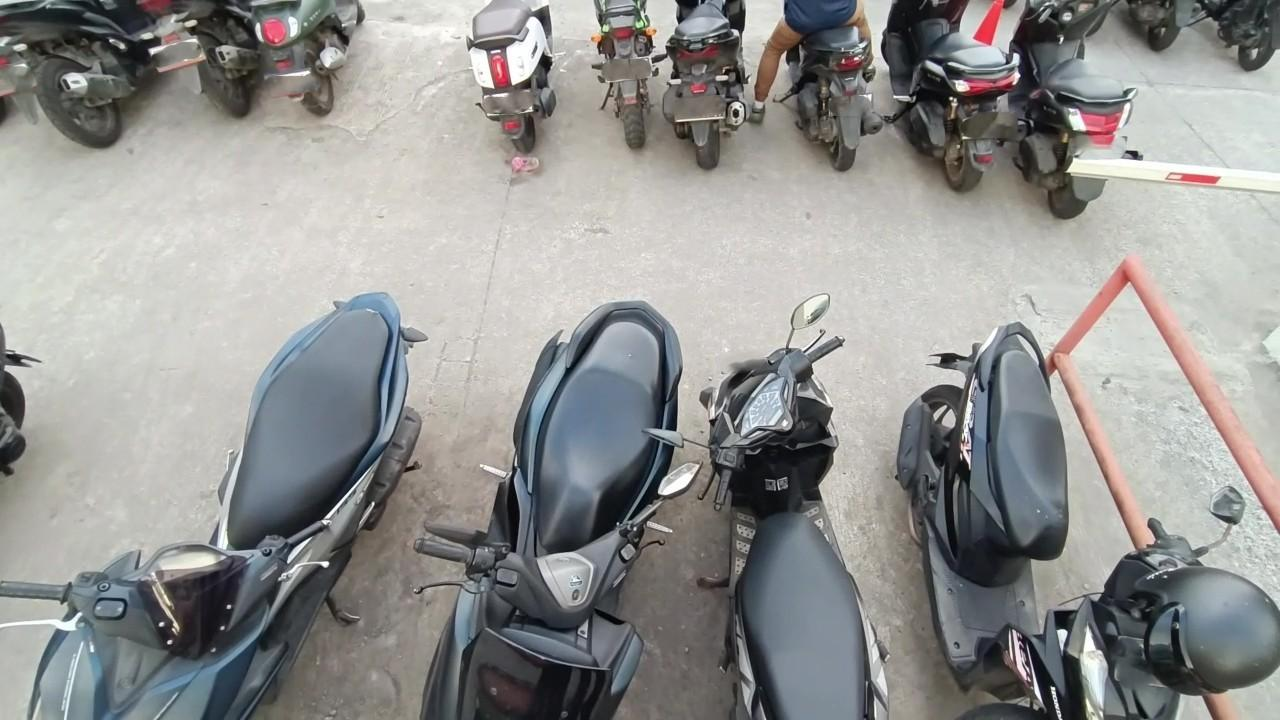motorcycle: (0, 294, 429, 719), (895, 320, 1280, 720), (417, 301, 705, 720), (650, 293, 892, 720), (1010, 0, 1143, 222), (883, 0, 1023, 197), (0, 0, 158, 150), (752, 0, 882, 175), (466, 0, 558, 172), (139, 0, 271, 118), (668, 0, 750, 170), (257, 0, 366, 121), (0, 279, 51, 501), (597, 0, 671, 150), (1204, 0, 1279, 75), (1122, 0, 1208, 53)
